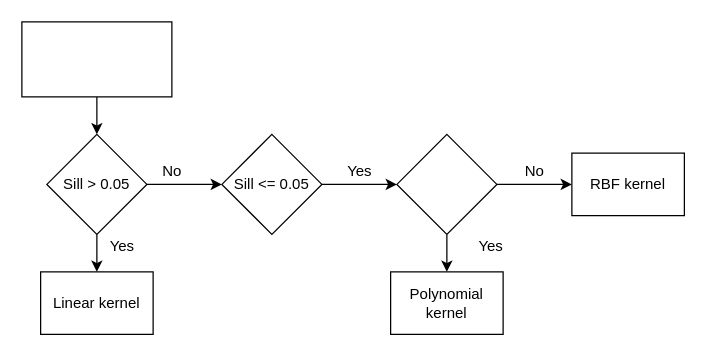
Some shapes in this 706 by 356 pixel diagram are drawn without their labels. Each missing label, with the centre of its shape:
"Sill <= 0.02" belongs at point (446, 183).
"Variogram characteristics" belongs at point (96, 59).
